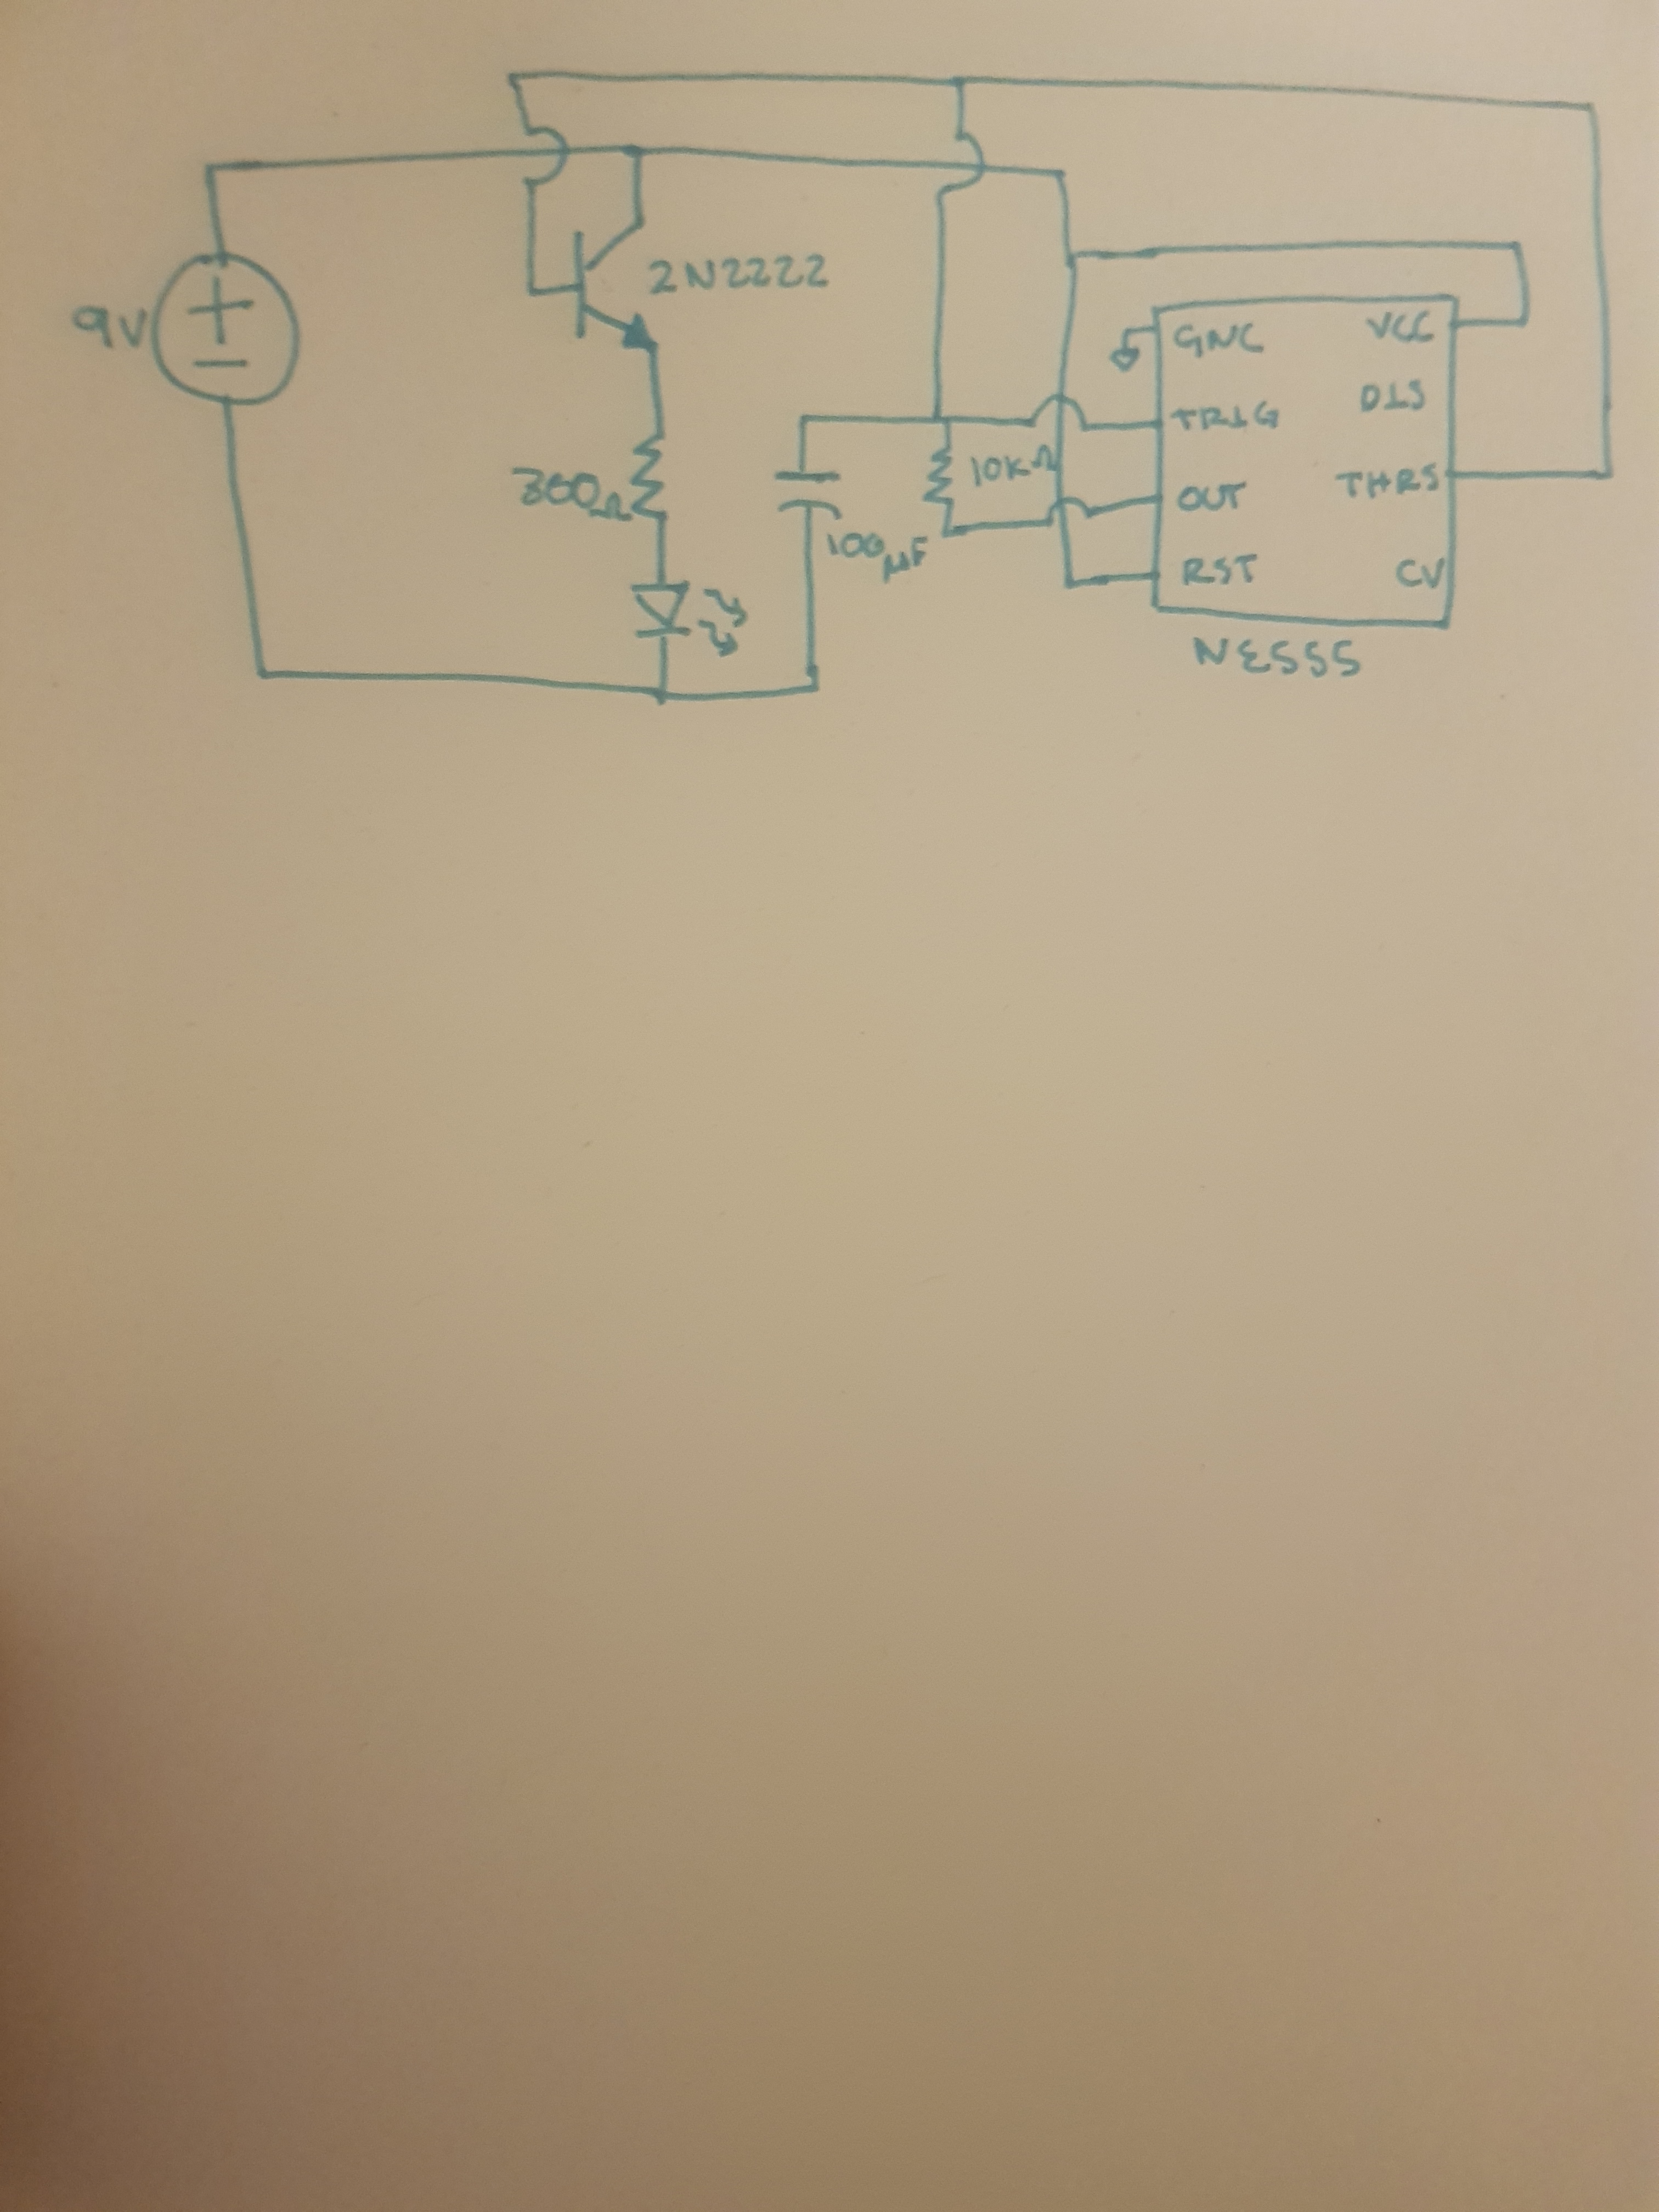capacitor.unpolarized: (765, 463, 847, 528)
crossover: (929, 124, 993, 211), (511, 120, 573, 195), (1021, 390, 1098, 439), (1042, 493, 1096, 533)
diode.light_emitting: (624, 571, 753, 662)
gnd: (1107, 343, 1145, 381)
integrated_cricuit.ne555: (1148, 289, 1469, 636)
junction: (1591, 455, 1624, 491), (939, 68, 981, 96), (645, 676, 678, 711), (619, 139, 659, 167), (197, 153, 227, 190), (1574, 92, 1607, 124), (1495, 233, 1530, 261), (796, 672, 828, 700), (249, 662, 282, 688), (1056, 246, 1089, 272), (789, 408, 819, 435), (502, 64, 533, 91), (1507, 310, 1539, 334), (924, 409, 962, 428), (519, 280, 545, 307), (1056, 570, 1080, 597), (1046, 162, 1072, 186), (938, 524, 958, 543), (1119, 326, 1136, 340)
resistor: (620, 421, 685, 549), (918, 439, 962, 514)
text: (643, 249, 833, 303), (1188, 632, 1363, 683), (504, 463, 627, 529), (823, 529, 927, 583), (68, 300, 148, 357), (1333, 460, 1441, 500), (1169, 399, 1286, 434), (1169, 320, 1269, 361), (1180, 550, 1263, 589), (1363, 307, 1438, 347), (1358, 378, 1432, 415), (965, 453, 1042, 486), (1175, 481, 1249, 514), (1392, 554, 1448, 592)
transistor: (558, 209, 676, 368)
voltage.dc: (143, 247, 312, 415)
